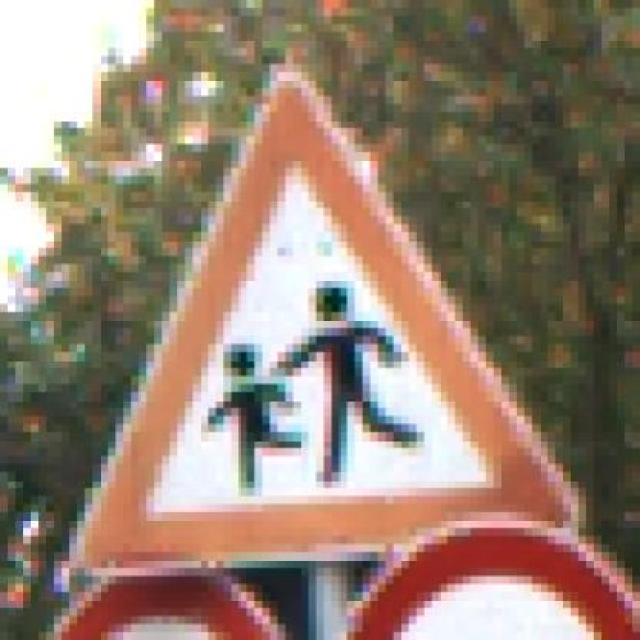Beware of children: (62, 56, 609, 576)
